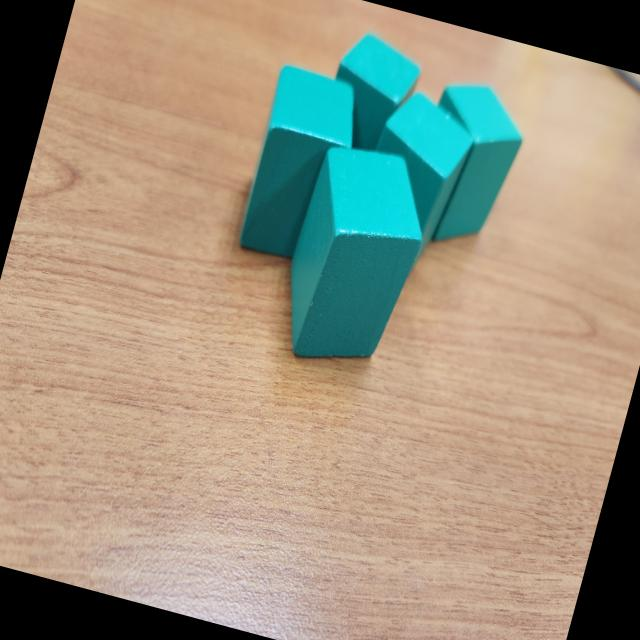green: (264, 134, 442, 382), (230, 61, 374, 271), (344, 84, 482, 286), (402, 74, 536, 256), (318, 28, 427, 160)
